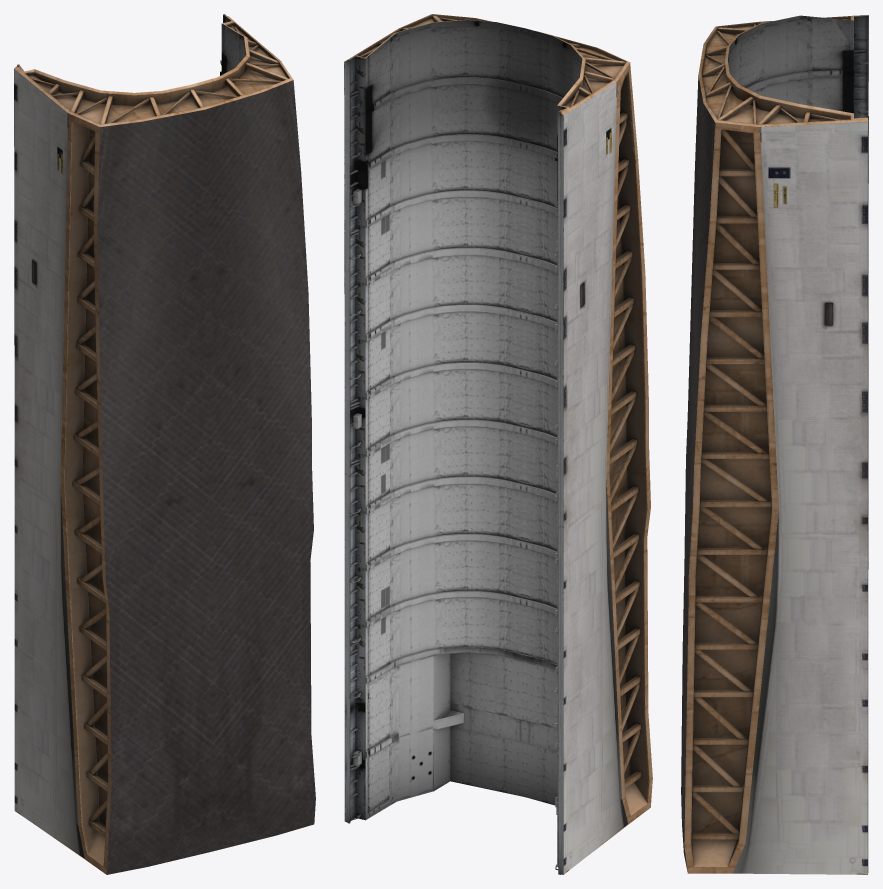
File: cargobay.DAE
The picture shows the model from 3 angles, left to right: view 1: azimuth 30°, elevation 25°; view 2: azimuth 150°, elevation 25°; view 3: azimuth 270°, elevation 25°; orthographic projection. The views are drawn at different scales.
Parts seen in each view (by area): view 1: RX_CargoBay; view 2: RX_CargoBay; view 3: RX_CargoBay.
Boxes of the visible parts, x1,y1,x2,y2 form: RX_CargoBay: [14, 14, 315, 874]; RX_CargoBay: [344, 14, 652, 874]; RX_CargoBay: [681, 15, 868, 874].
Bounding box in the file's own units: 2.34 × 7.84 × 1.75.
